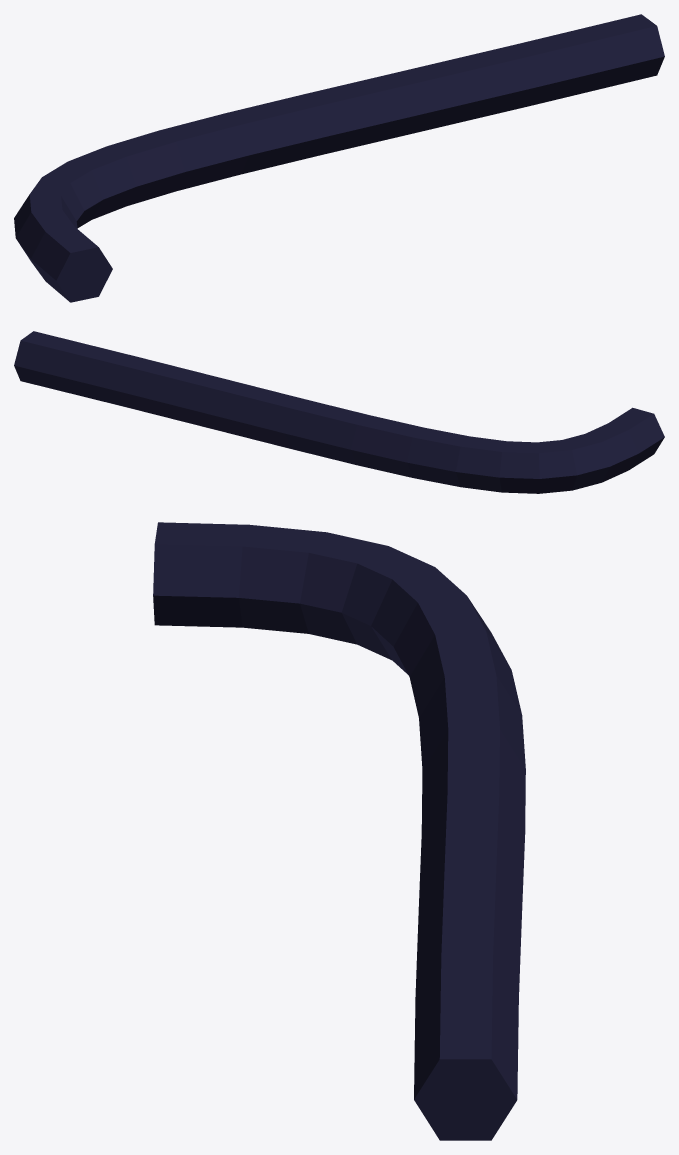
Rendered from KEY6.fbx.
3 views of the same model, one above another, from view 1: azimuth 30°, elevation 25°; view 2: azimuth 150°, elevation 25°; view 3: azimuth 270°, elevation 25° (orthographic). The views are drawn at different scales.
Visible parts, largest first — view 1: BézierCurve; view 2: BézierCurve; view 3: BézierCurve.
Part boxes in pixels (box(x1,y1,x2,y2)): BézierCurve: box(14, 14, 664, 302); BézierCurve: box(14, 331, 664, 493); BézierCurve: box(153, 522, 525, 1140).
Bounding box in the file's own units: 125 × 8.66 × 36.03.
